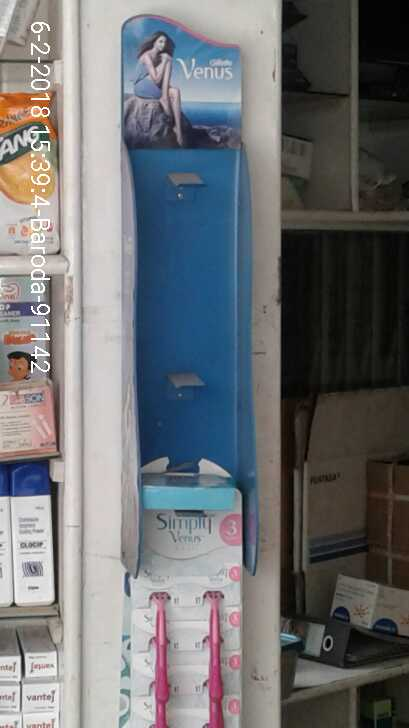reject: (143, 268, 213, 330)
